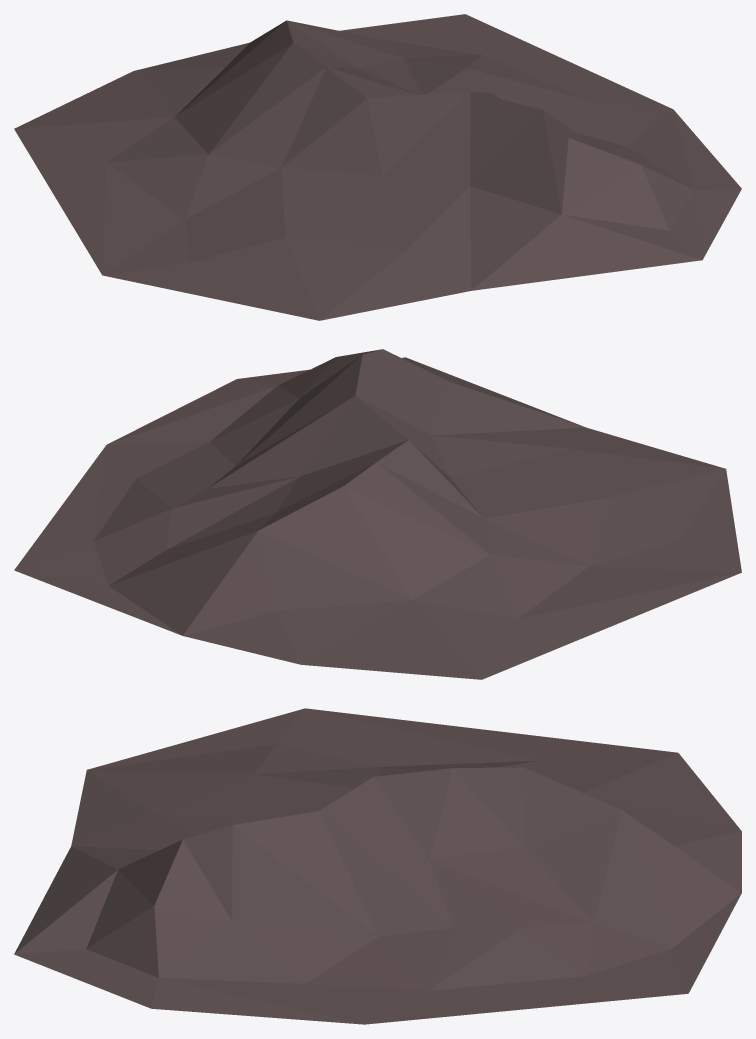
File: TB_D_Env_DuneB_C.FBX
3 views of the same model, one above another, from view 1: azimuth 30°, elevation 25°; view 2: azimuth 150°, elevation 25°; view 3: azimuth 270°, elevation 25° (orthographic). The views are drawn at different scales.
Parts seen in each view (by area): view 1: TB_D_Env_DuneB_C; view 2: TB_D_Env_DuneB_C; view 3: TB_D_Env_DuneB_C.
Boxes of the visible parts, x1,y1,x2,y2 form: TB_D_Env_DuneB_C: (14,14,741,320); TB_D_Env_DuneB_C: (14,349,741,679); TB_D_Env_DuneB_C: (14,708,741,1024).
Size of the model in its own units: 15.42 by 2.24 by 15.
